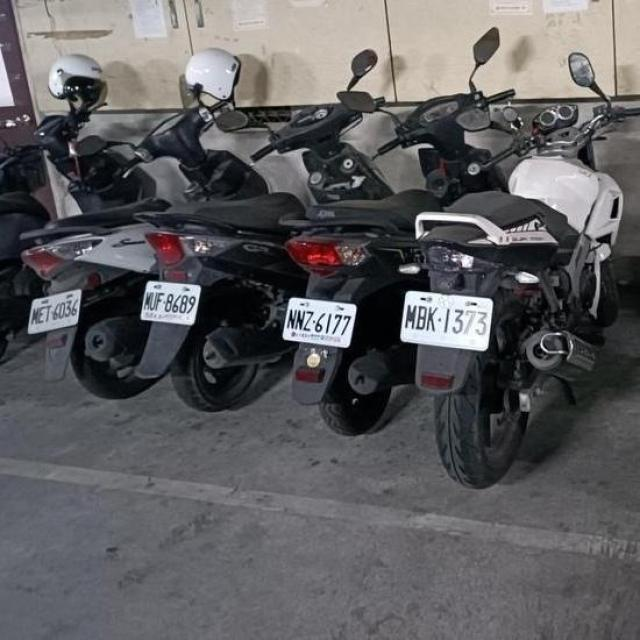W: (396, 284, 498, 354), (278, 287, 360, 354), (136, 271, 204, 331), (24, 284, 88, 339)
